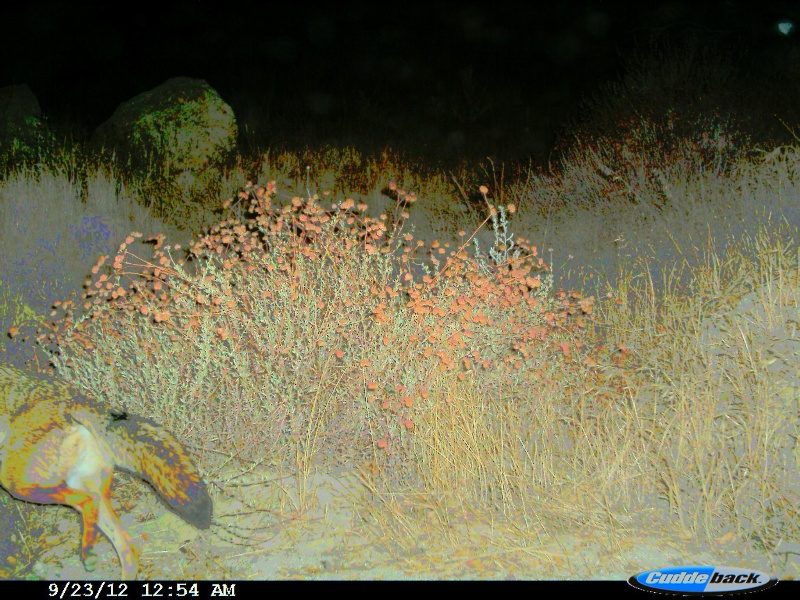coyote: (1, 336, 216, 577)
